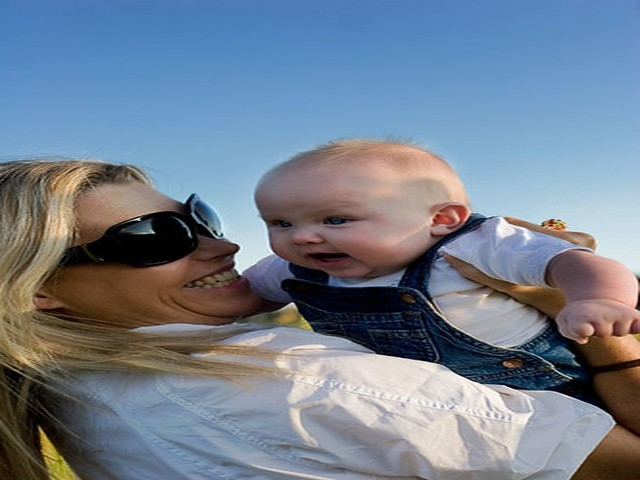Person: (2, 139, 637, 467)
